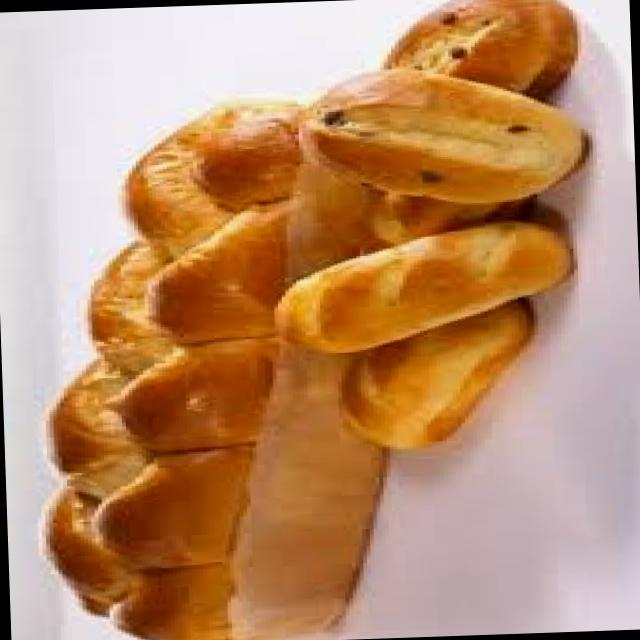organic: (35, 0, 579, 640)
